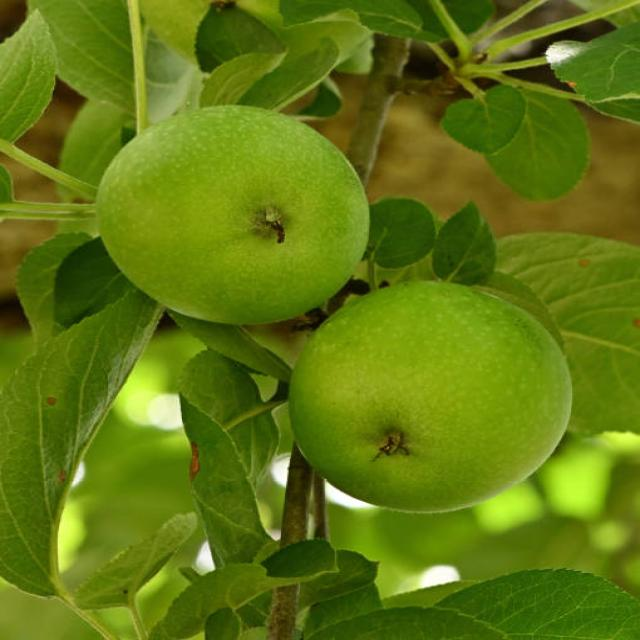Unripe: (286, 281, 574, 515), (93, 102, 371, 326)
